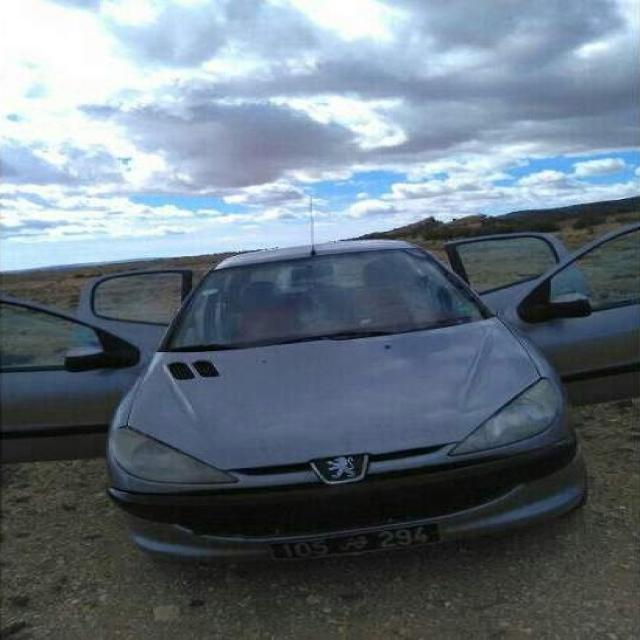licence plate: (269, 522, 441, 565)
